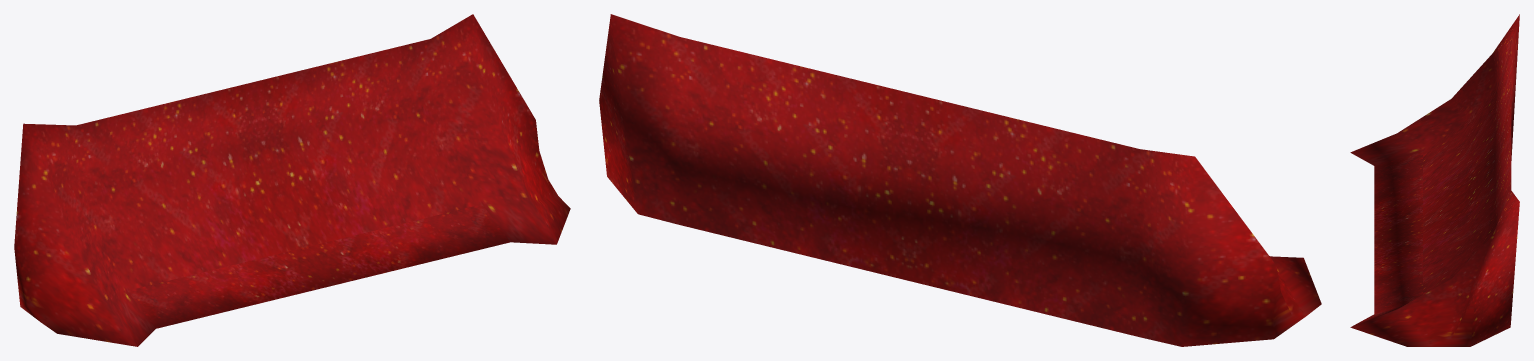
Rendered from CurvedFloor 5.fbx.
3 views of the same model, side by side, from view 1: azimuth 30°, elevation 25°; view 2: azimuth 150°, elevation 25°; view 3: azimuth 270°, elevation 25° (orthographic). The views are drawn at different scales.
Visible parts, largest first — view 1: Cube; view 2: Cube; view 3: Cube.
Part boxes in pixels (<box>): Cube: <box>14,14,570,346</box>; Cube: <box>599,14,1321,346</box>; Cube: <box>1350,14,1519,346</box>.
Size of the model in its own units: 753 by 213 by 248.
